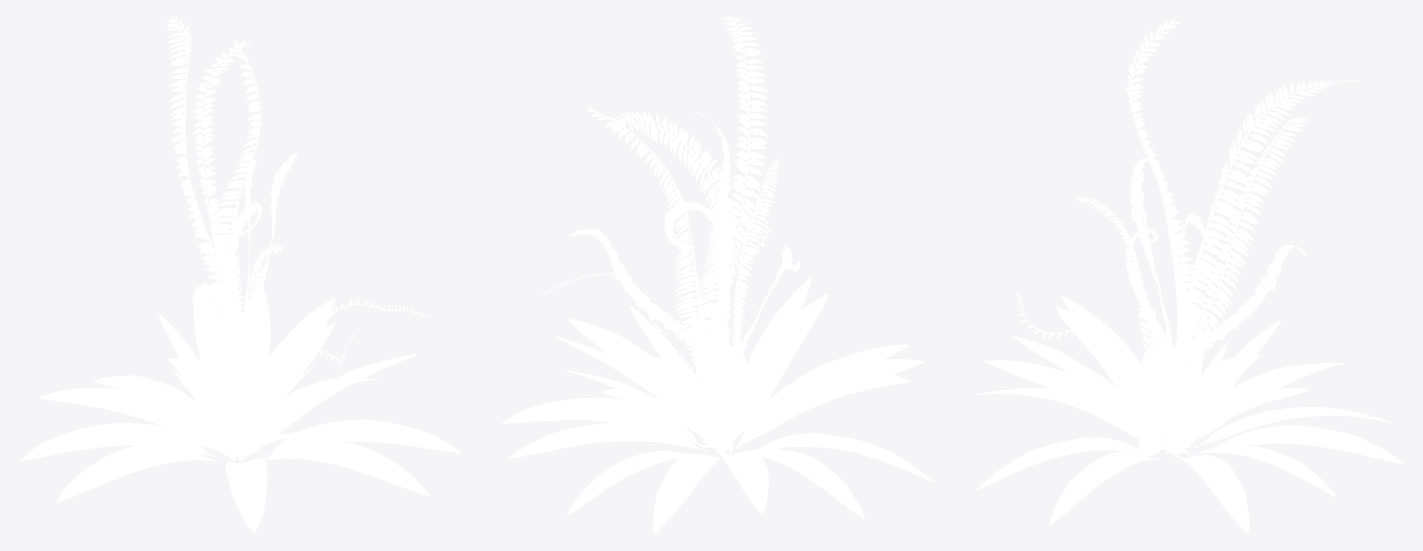
The picture shows the model from 3 angles, left to right: view 1: azimuth 30°, elevation 25°; view 2: azimuth 150°, elevation 25°; view 3: azimuth 270°, elevation 25°; orthographic projection. The views are drawn at different scales.
Visible parts, largest first — view 1: SM_SW_SwampFern_02_LOD0; view 2: SM_SW_SwampFern_02_LOD0; view 3: SM_SW_SwampFern_02_LOD0.
Part boxes in pixels (left/top/right/bottom): SM_SW_SwampFern_02_LOD0: left=19, top=15, right=461, bottom=533; SM_SW_SwampFern_02_LOD0: left=502, top=15, right=934, bottom=533; SM_SW_SwampFern_02_LOD0: left=975, top=16, right=1403, bottom=533.
Size of the model in its own units: 1.35 by 1.41 by 1.28.
Materials: 1 (1 with a texture image).
